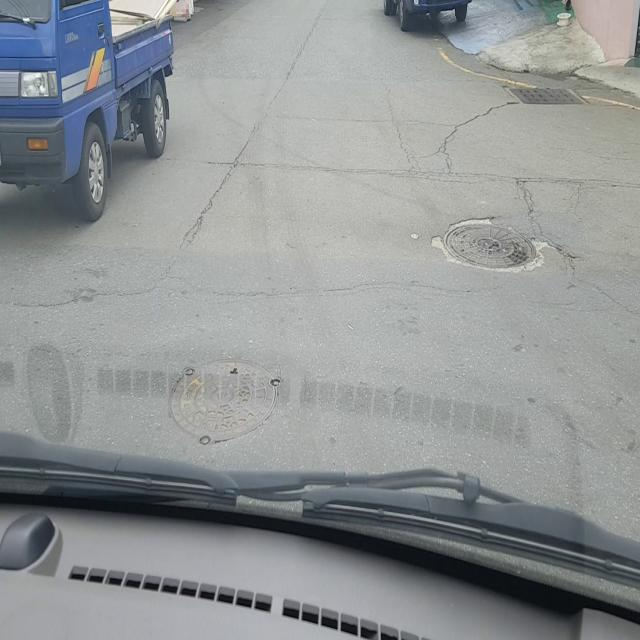Pothole: (428, 214, 551, 275)
